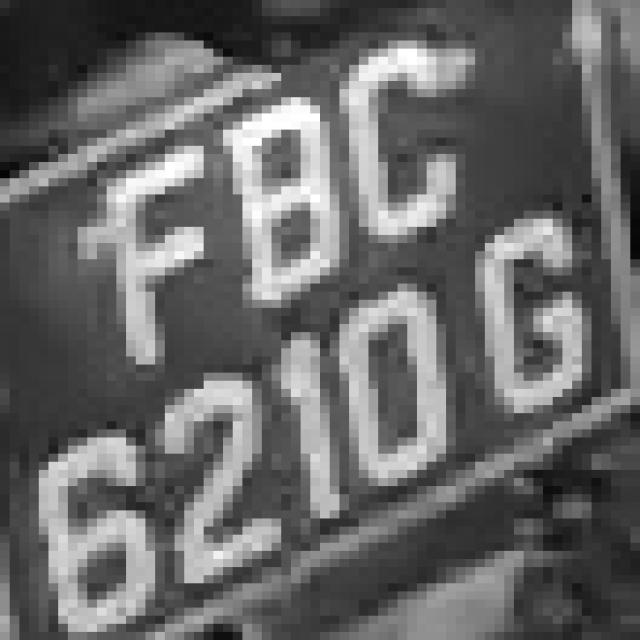0: (339, 268, 456, 502)
1: (272, 332, 368, 510)
2: (126, 348, 281, 600)
6: (29, 421, 184, 640)
B: (204, 89, 349, 316)
C: (330, 32, 485, 235)
F: (78, 105, 214, 381)
G: (465, 202, 611, 430)
